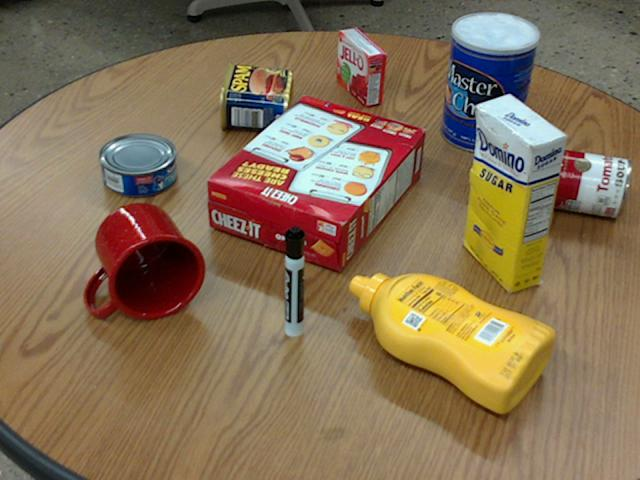cracker_box: (205, 96, 424, 271)
gelatin_box: (337, 27, 385, 105)
large_marker: (283, 225, 304, 336)
master_chef_can: (441, 12, 539, 152)
mug: (83, 203, 203, 319)
mustard_bottle: (349, 273, 553, 412)
potted_meat_can: (218, 61, 292, 129)
sugar_box: (464, 94, 564, 293)
tomato_soup_can: (526, 144, 628, 215)
tuna_fish_can: (98, 132, 175, 195)
